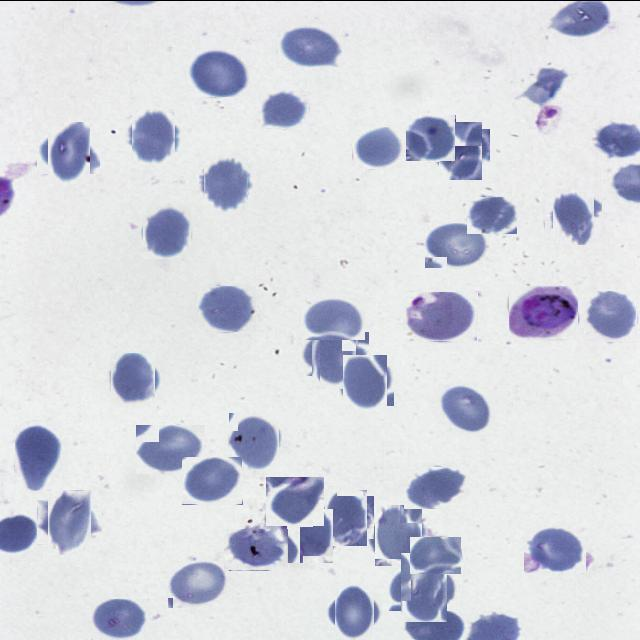gametocyte: (509, 285, 578, 338)
red blood cell: (406, 291, 478, 341), (136, 424, 206, 474), (395, 558, 453, 616), (305, 324, 362, 382), (15, 420, 62, 490), (370, 507, 426, 562), (187, 48, 250, 96), (425, 222, 490, 268), (168, 560, 230, 608), (227, 413, 281, 468), (182, 456, 243, 504), (42, 494, 96, 548), (524, 525, 586, 572), (266, 476, 324, 525), (198, 285, 257, 332), (584, 290, 637, 342), (438, 383, 493, 433), (224, 528, 289, 570), (302, 296, 365, 339), (42, 126, 94, 178), (278, 24, 342, 66), (435, 124, 486, 176), (404, 466, 466, 508), (142, 206, 192, 258), (339, 358, 390, 408), (201, 158, 251, 208), (129, 111, 179, 161), (321, 492, 371, 542), (548, 190, 598, 240), (284, 510, 334, 560), (91, 598, 149, 640), (109, 354, 157, 404), (406, 114, 456, 161), (352, 126, 406, 168), (331, 587, 378, 635), (410, 536, 462, 574), (467, 196, 517, 233), (262, 90, 310, 128)
